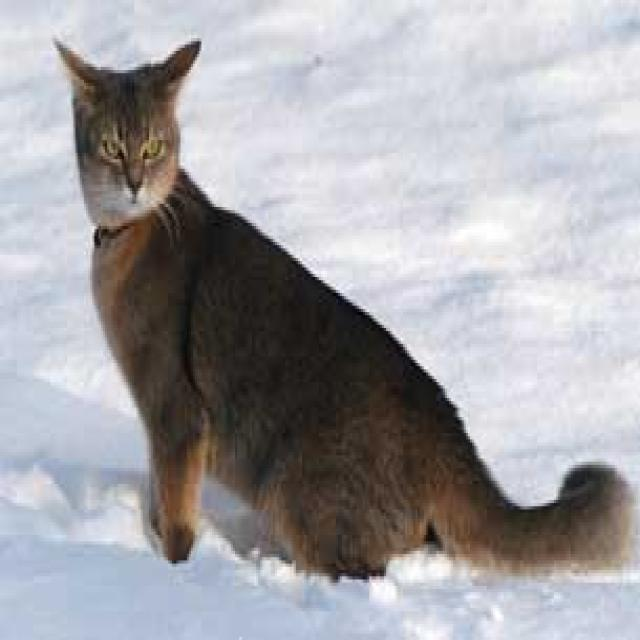Abyssinian: (53, 35, 198, 213)
